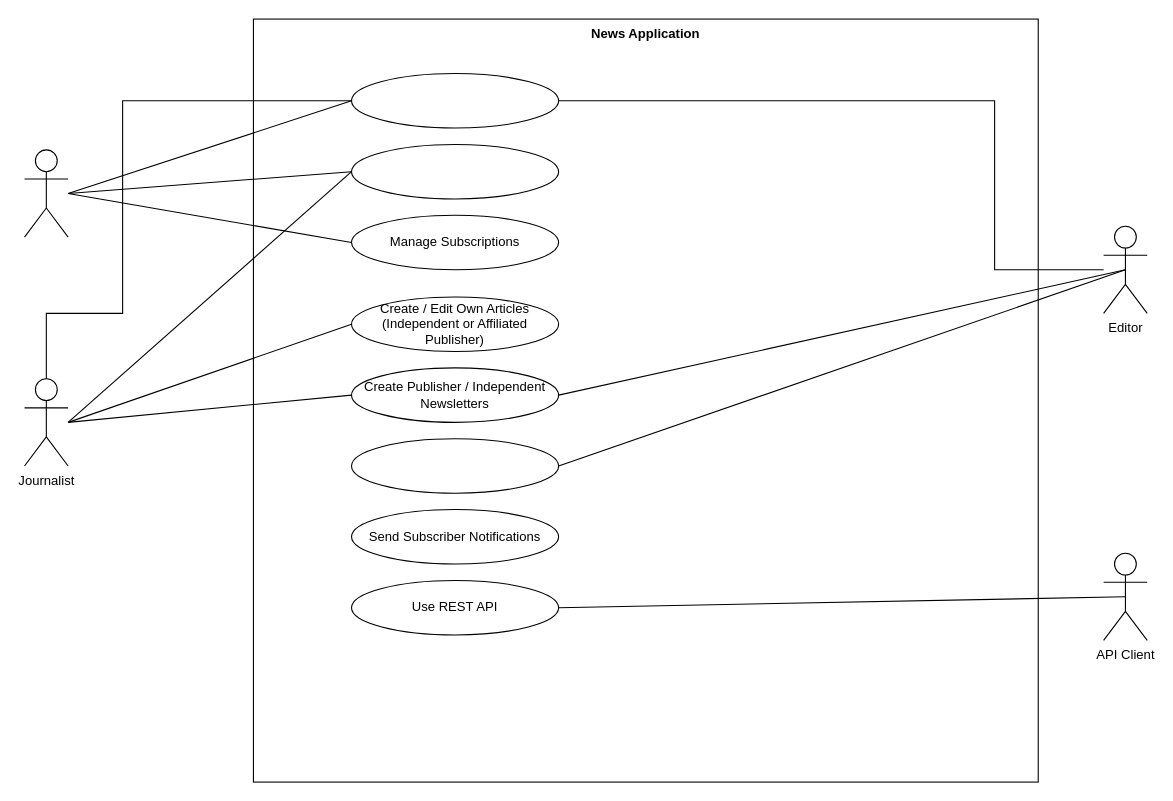
The diagram is 1173 pixels wide and 801 high, and some of its shapes have lost their labels. Each missing label, with the centre of its shape:
Reader: the point at 45,193
Register / Log In: the point at 454,100
Review / Approve Affiliated or Independent Articles: the point at 454,465
View Articles: the point at 454,171
